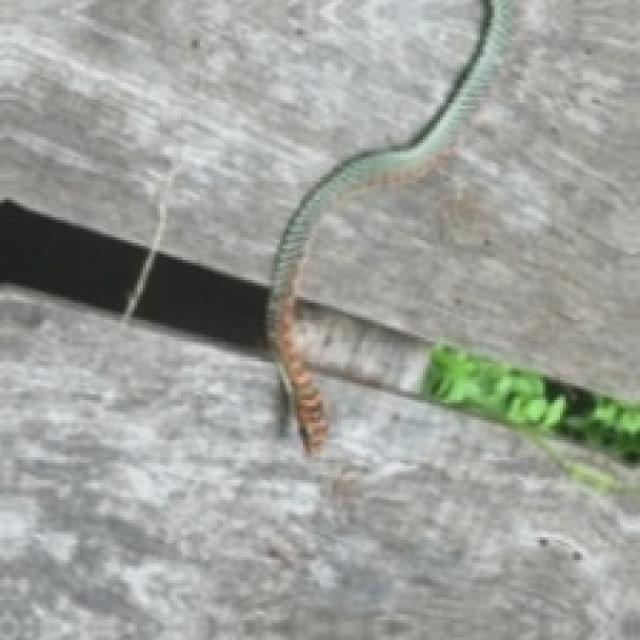paradise tree snake: (269, 0, 512, 453)
